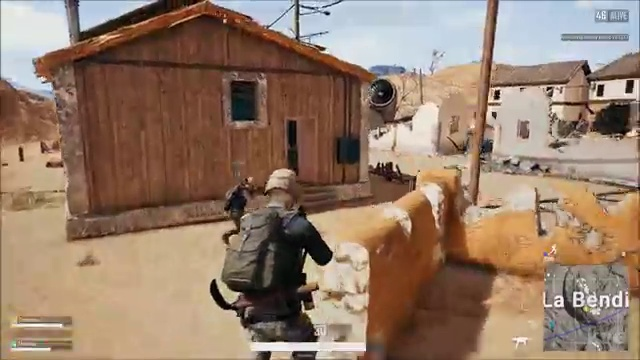Player: (248, 167, 337, 318)
